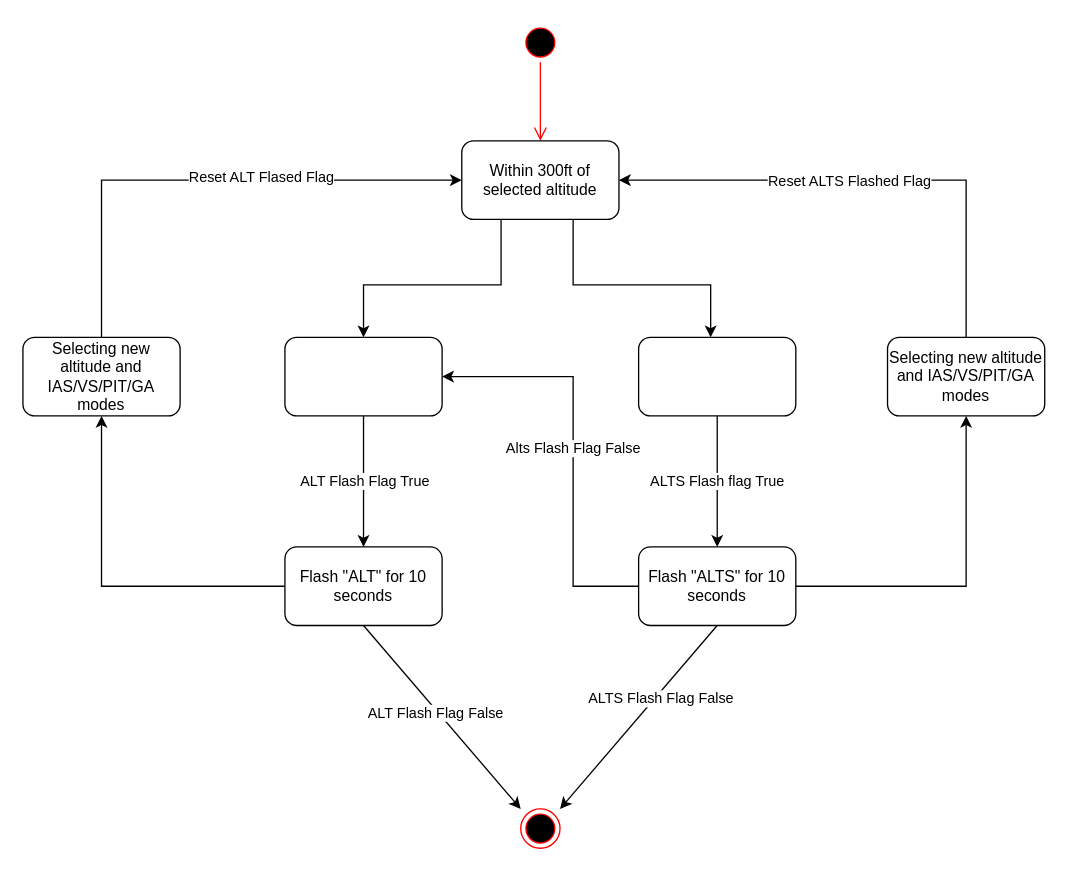
The diagram is 1068 pixels wide and 871 high, and some of its shapes have lost their labels. Each missing label, with the centre of its shape:
Not within 50ft of selected altitude: the point at 716,376
Within 50ft of selected altitude: the point at 363,376
